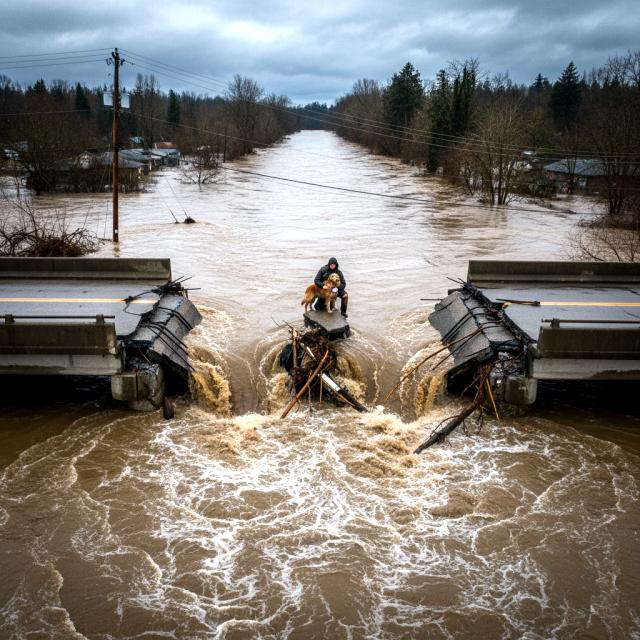civilian: (310, 253, 356, 323)
dog: (294, 268, 346, 316)
